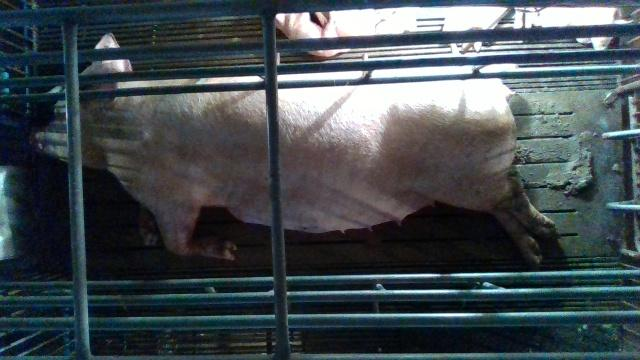piglet: (275, 13, 349, 57)
sow-sleep-lactate: (35, 33, 560, 264)
